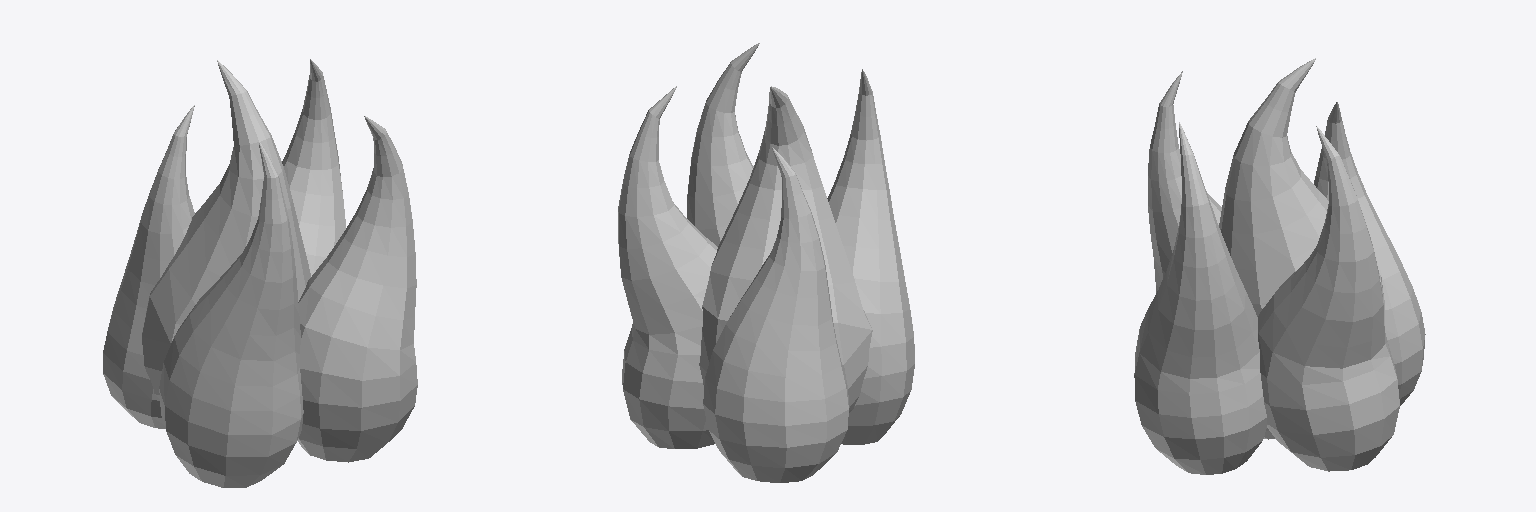
File: fire_000037.obj
3 renders of one model, left to right at view 1: azimuth 30°, elevation 25°; view 2: azimuth 150°, elevation 25°; view 3: azimuth 270°, elevation 25°, orthographic.
Parts seen in each view (by area): view 1: flame_NurbsPath.015; view 2: flame_NurbsPath.015; view 3: flame_NurbsPath.015.
Boxes of the visible parts, x1,y1,x2,y2 form: flame_NurbsPath.015: [103, 59, 417, 487]; flame_NurbsPath.015: [618, 43, 914, 482]; flame_NurbsPath.015: [1134, 58, 1425, 474].
Size of the model in its own units: 0.7403 by 1.16 by 0.8113.